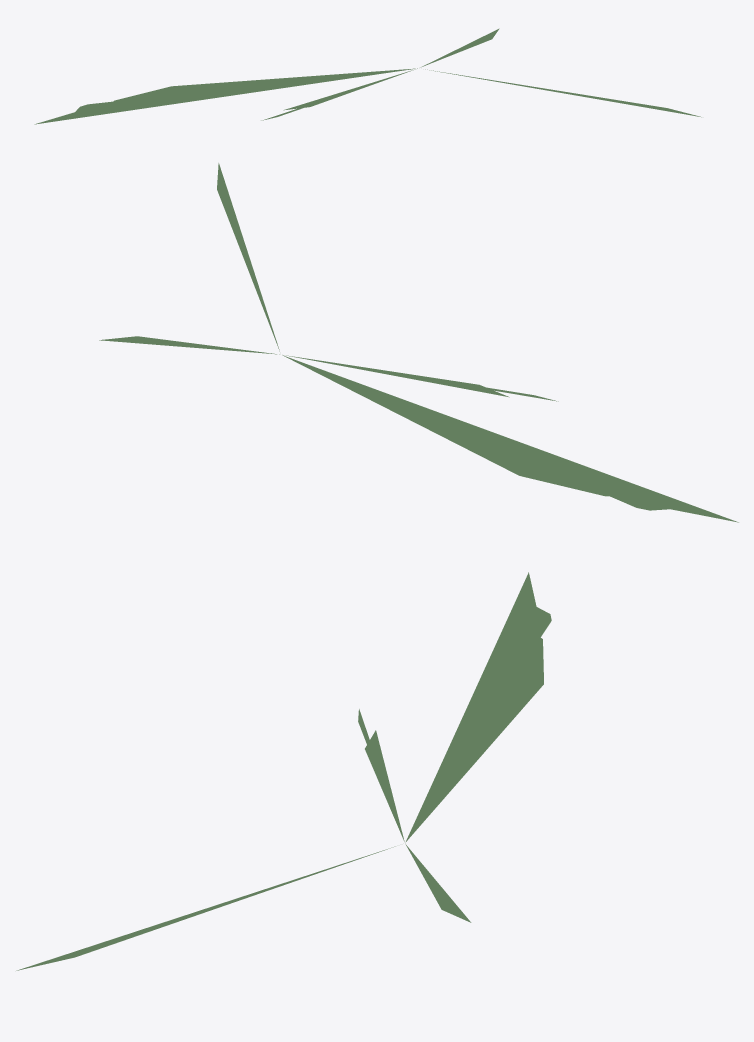
File: c_1646_17832_forest.glb
The picture shows the model from 3 angles, top to bottom: view 1: azimuth 30°, elevation 25°; view 2: azimuth 150°, elevation 25°; view 3: azimuth 270°, elevation 25°; orthographic projection. The views are drawn at different scales.
Parts seen in each view (by area): view 1: geometry_0; view 2: geometry_0; view 3: geometry_0.
Part boxes in pixels (x1,y1,x2,y2): geometry_0: (34,28,701,124); geometry_0: (99,163,738,522); geometry_0: (16,572,551,970).
Size of the model in its own units: 790 by 0 by 524.
